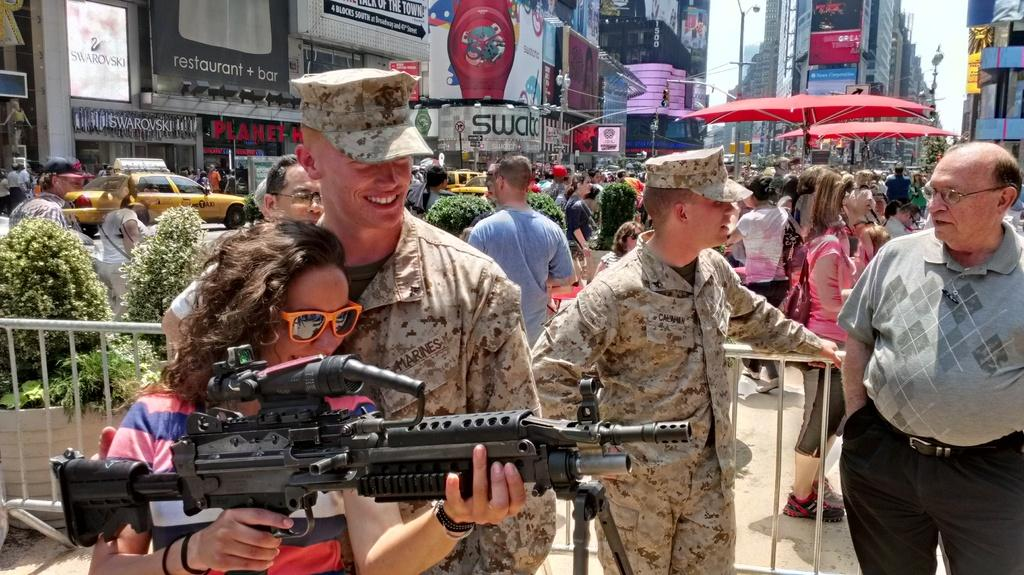Rifle: (50, 343, 687, 574)
